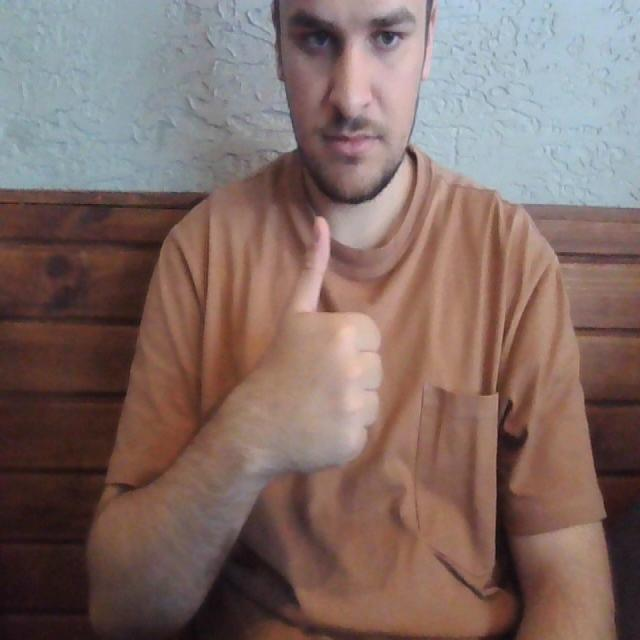Tamam: (243, 210, 388, 485)
